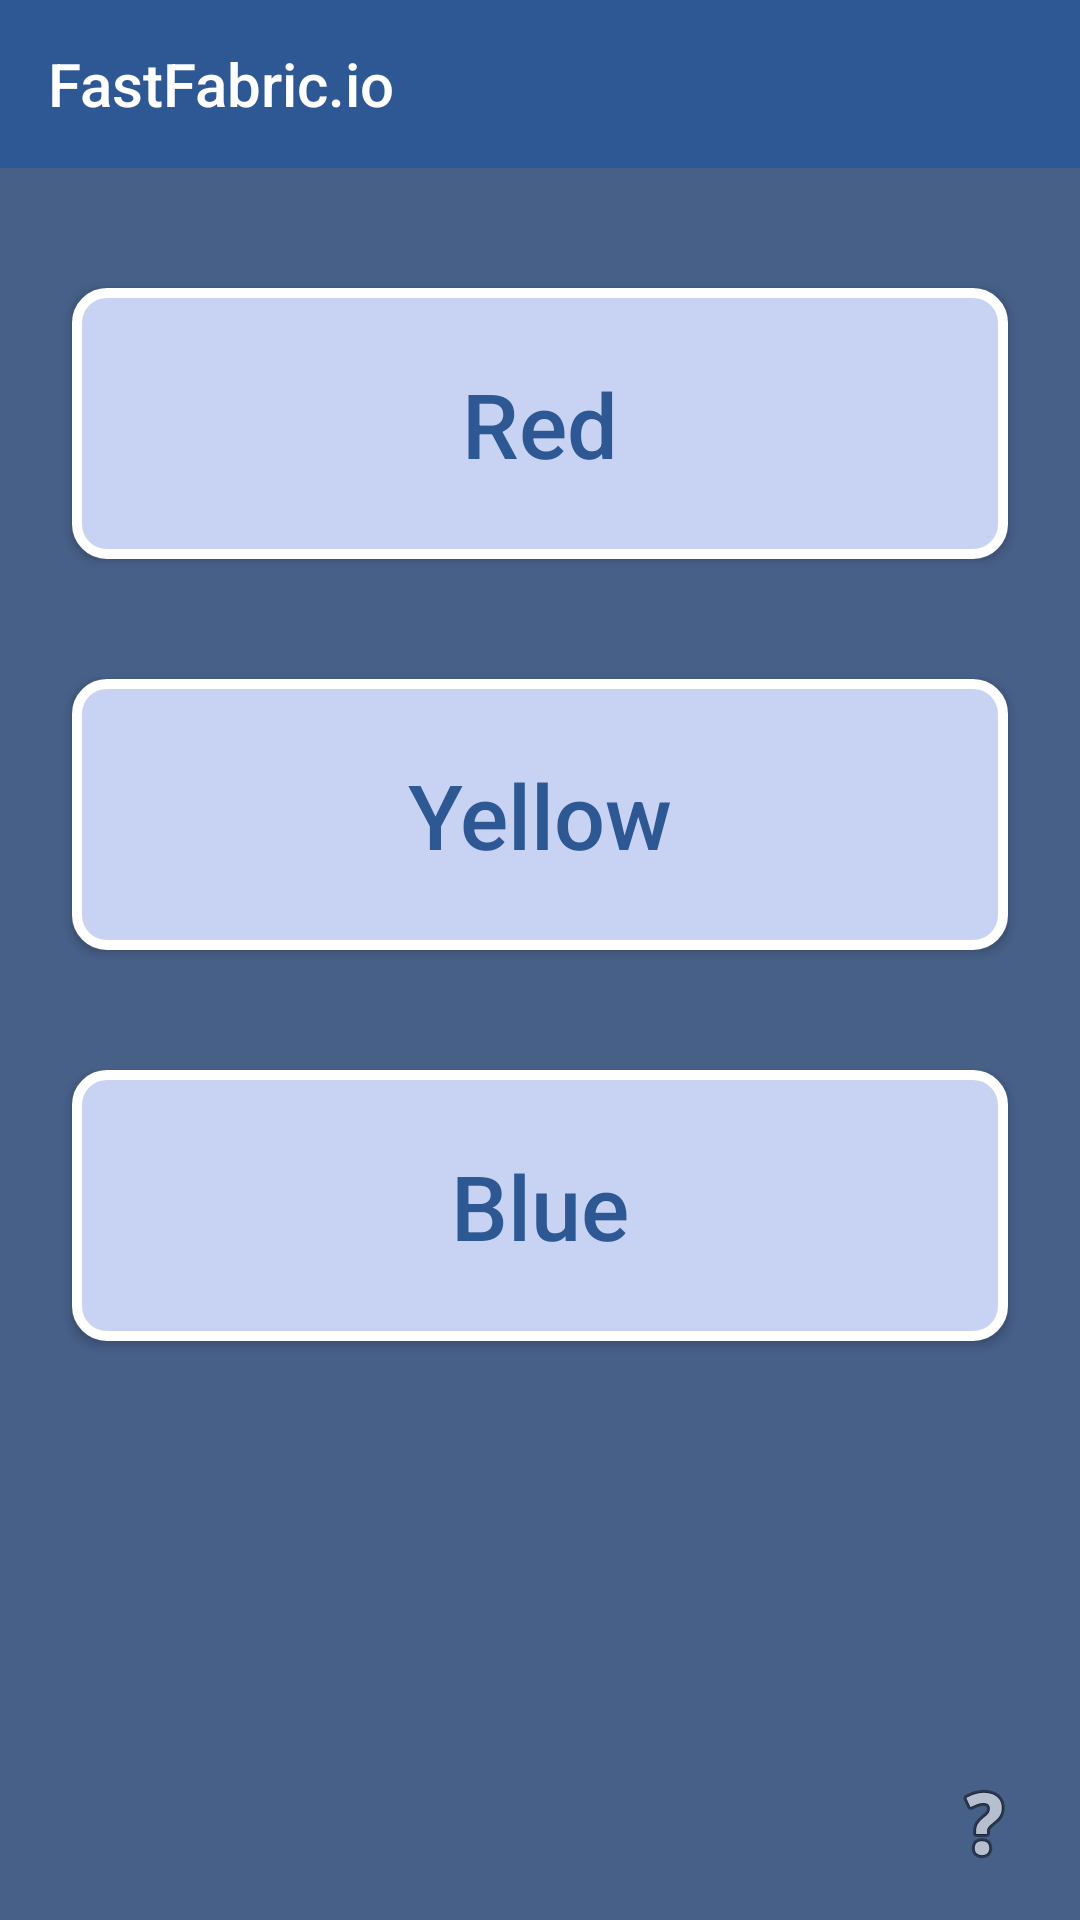

Screen size 1080x1920. Icon name, then its box in pixels as bbox(x1, y1, x2, y2):
help: bbox(963, 1790, 1005, 1858)
